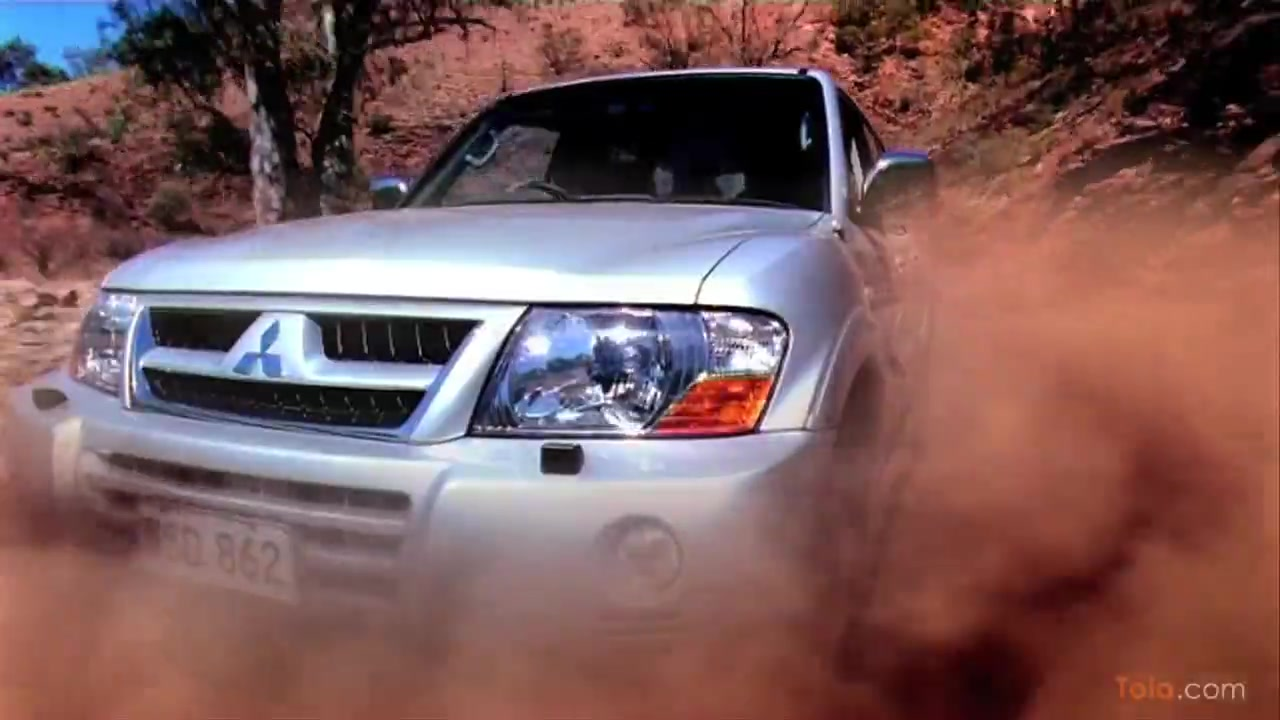car: (15, 65, 938, 673)
